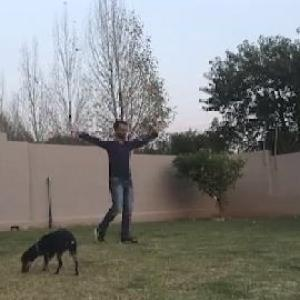takeoff: (32, 117, 156, 256)
